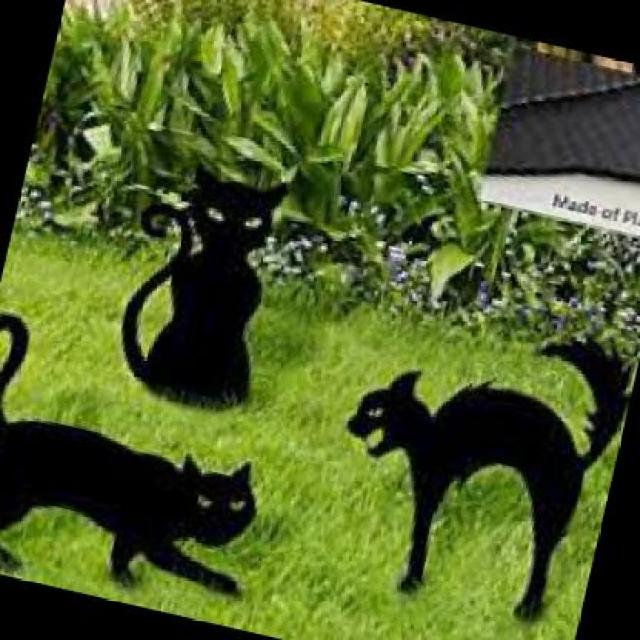animals: (312, 274, 638, 638), (0, 312, 300, 630), (84, 141, 310, 430)
